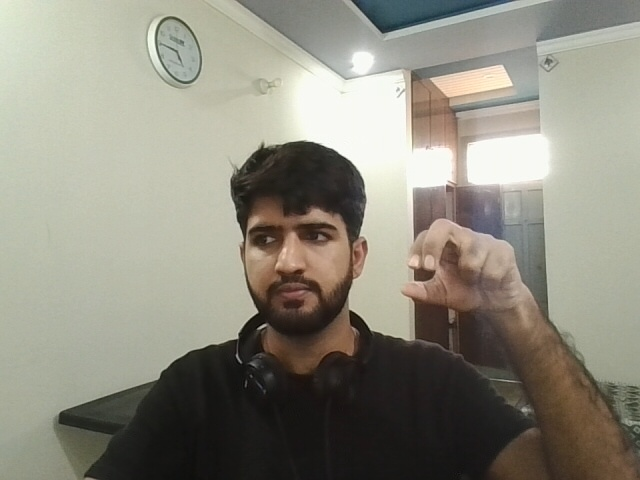No: (393, 205, 548, 343)
